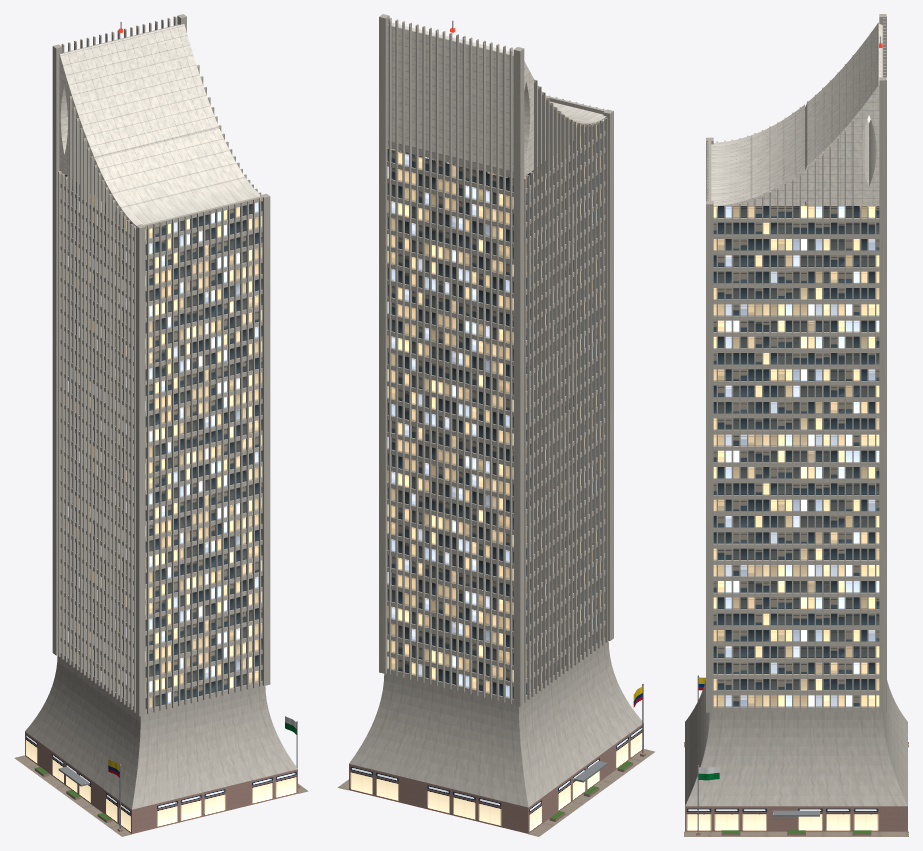
Rendered from CO_EdificioColtejer_6x6.fbx.
3 renders of one model, left to right at view 1: azimuth 30°, elevation 25°; view 2: azimuth 150°, elevation 25°; view 3: azimuth 270°, elevation 25°, orthographic. The views are drawn at different scales.
Parts seen in each view (by area): view 1: CO_EdificioColtejer_6x6; view 2: CO_EdificioColtejer_6x6; view 3: CO_EdificioColtejer_6x6.
Part boxes in pixels (x1,y1,x2,y2): CO_EdificioColtejer_6x6: [14, 14, 308, 836]; CO_EdificioColtejer_6x6: [337, 14, 654, 836]; CO_EdificioColtejer_6x6: [684, 14, 908, 836].
Bounding box in the file's own units: 48 × 178 × 48.
Materials: 1 (1 with a texture image).
